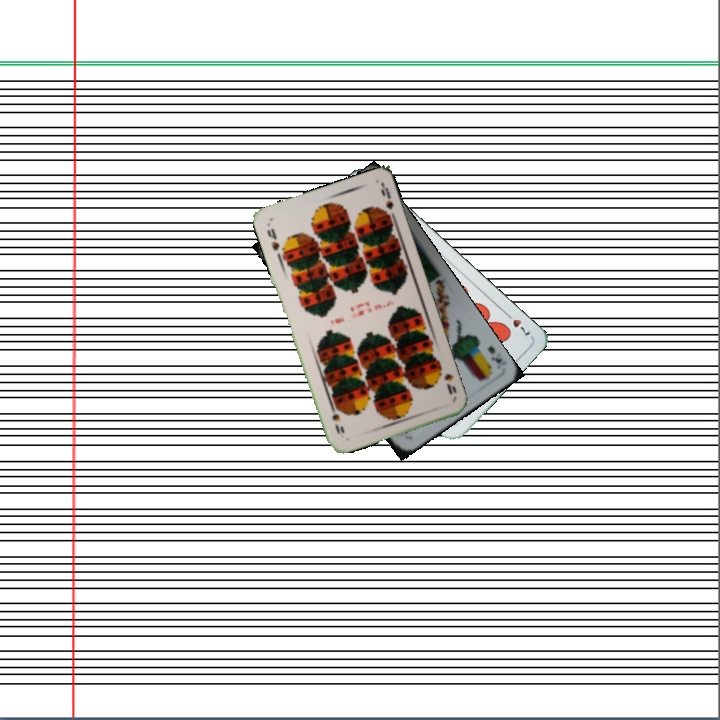EK: (484, 342, 509, 372)
H7: (500, 307, 533, 338)
S9: (435, 361, 459, 397), (263, 225, 282, 253)
